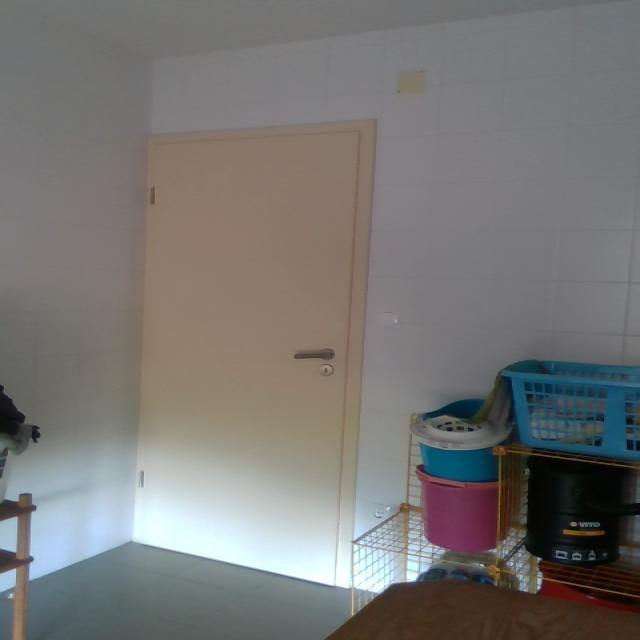door: (130, 119, 379, 598)
